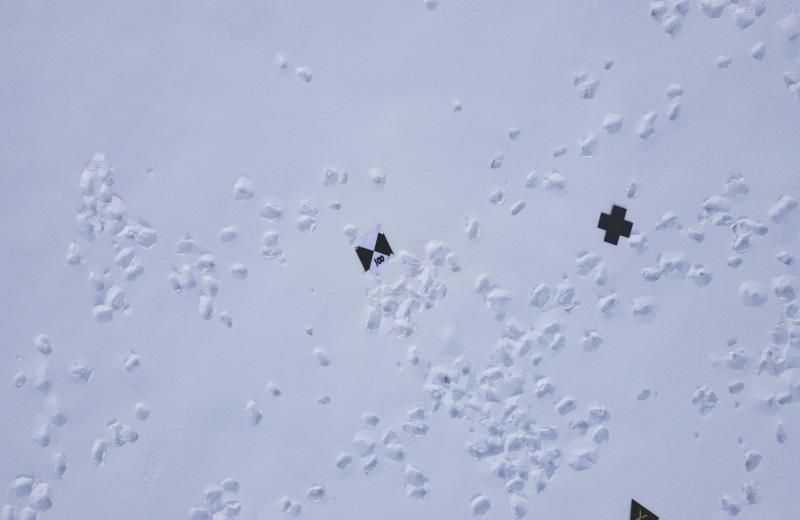Cross: (591, 203, 636, 251)
Triangle: (624, 497, 662, 520)
